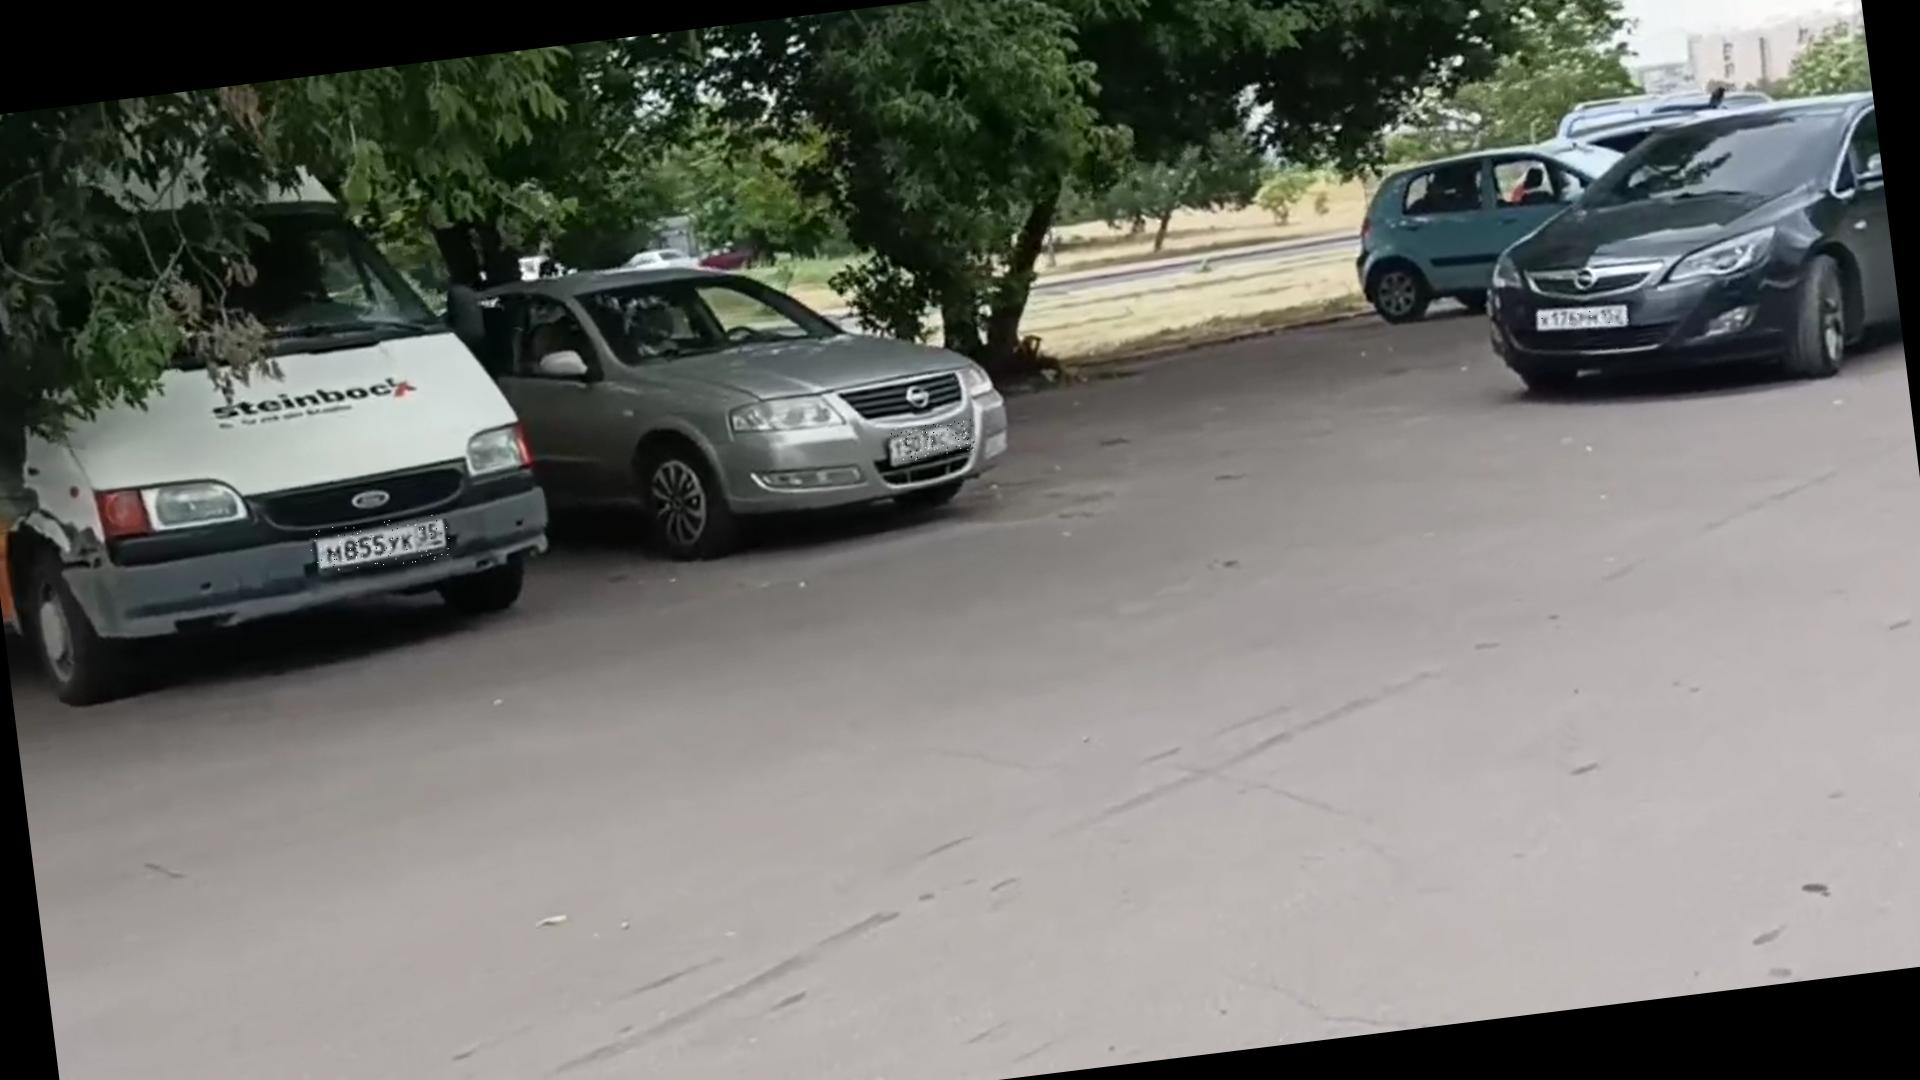plate: (310, 514, 454, 576), (892, 420, 978, 464), (1541, 306, 1635, 338)
